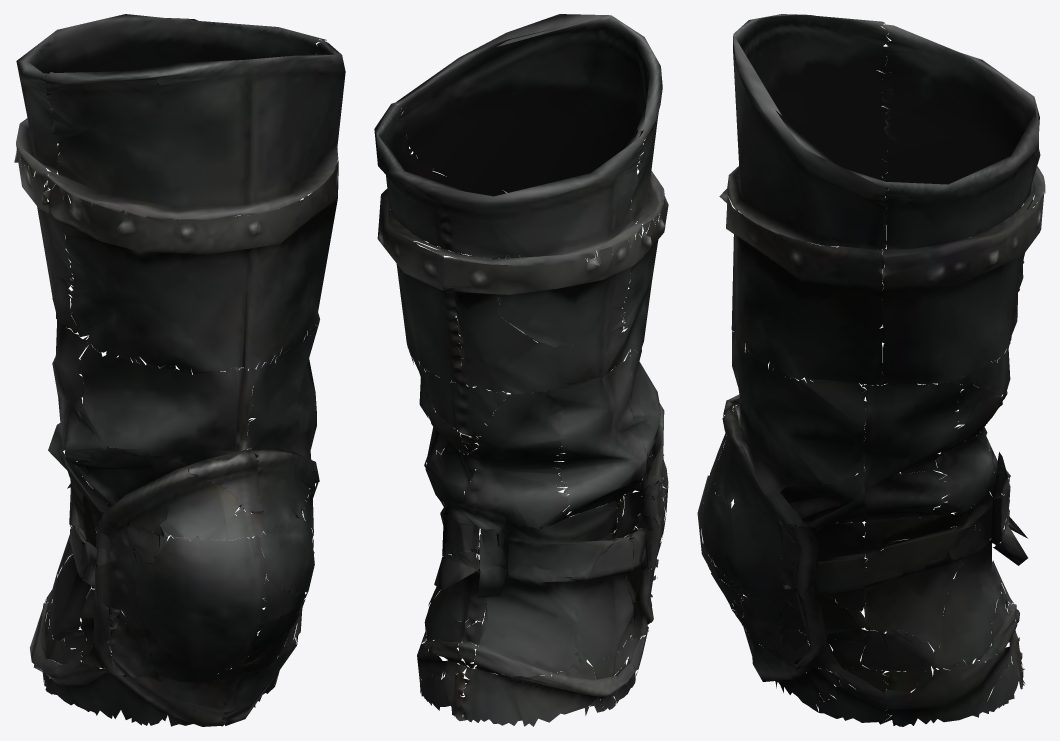
The model's file is a_black_greaves_L.glb.
3 renders of one model, left to right at view 1: azimuth 30°, elevation 25°; view 2: azimuth 150°, elevation 25°; view 3: azimuth 270°, elevation 25°, orthographic. The views are drawn at different scales.
Visible parts, largest first — view 1: geometry_0.001; view 2: geometry_0.001; view 3: geometry_0.001.
Part boxes in pixels (left/top/right/bottom): geometry_0.001: left=14, top=14, right=345, bottom=726; geometry_0.001: left=374, top=14, right=668, bottom=726; geometry_0.001: left=697, top=14, right=1045, bottom=726.
Size of the model in its own units: 0.1412 by 0.318 by 0.1555.
1 material, 1 textured.
